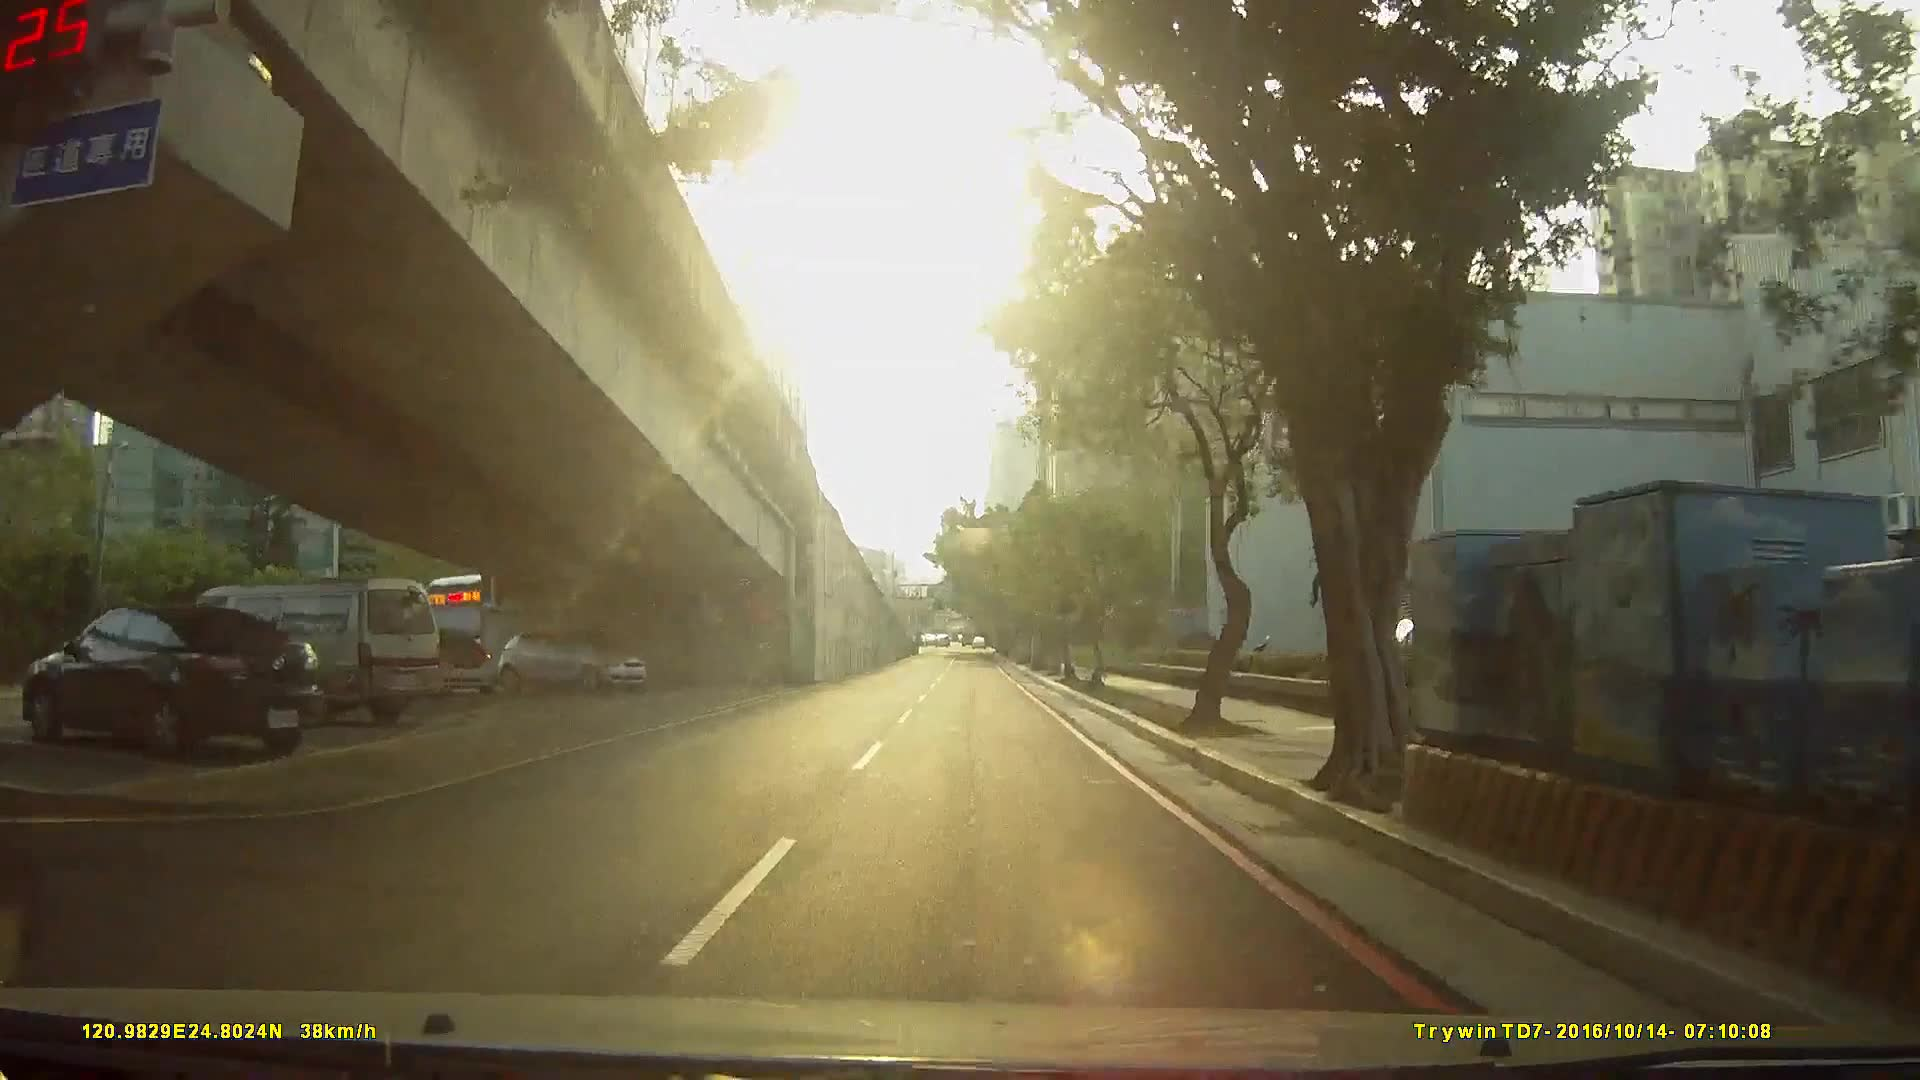vehicle: (15, 585, 331, 756), (157, 574, 433, 727), (491, 622, 646, 694), (390, 626, 493, 698)
